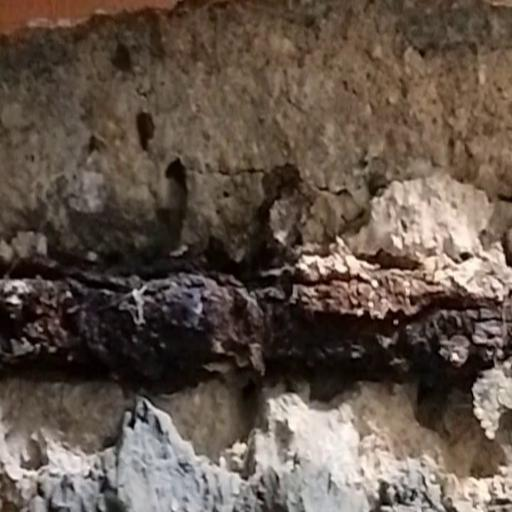spalling: (9, 4, 512, 512)
